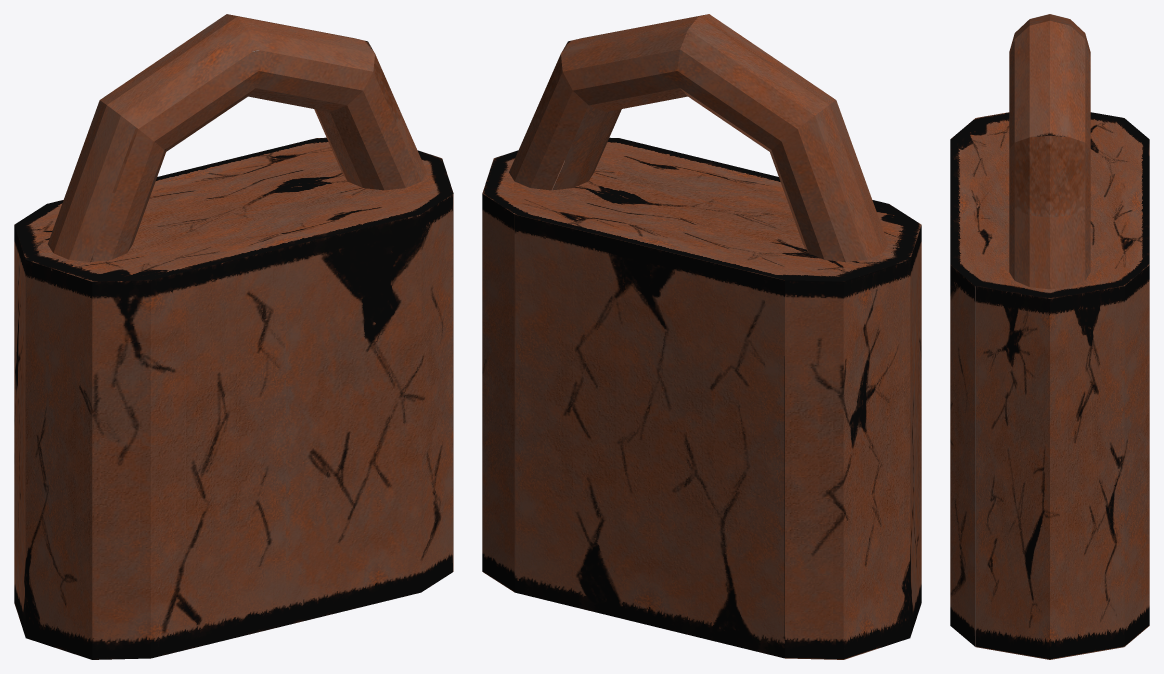
File: AloqueteDial.fbx
3 views of the same model, side by side, from view 1: azimuth 30°, elevation 25°; view 2: azimuth 150°, elevation 25°; view 3: azimuth 270°, elevation 25° (orthographic). The views are drawn at different scales.
Visible parts, largest first — view 1: AloqueteDial; view 2: AloqueteDial; view 3: AloqueteDial.
Boxes of the visible parts, bbox=[...] form: AloqueteDial: bbox=[14, 14, 453, 659]; AloqueteDial: bbox=[482, 14, 921, 659]; AloqueteDial: bbox=[950, 14, 1149, 659].
Size of the model in its own units: 23.05 by 30.78 by 10.
